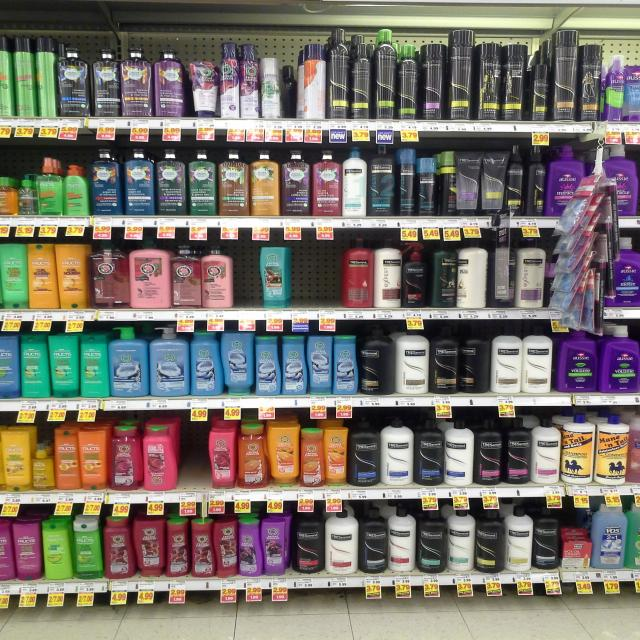empty: (278, 241, 348, 313), (171, 423, 213, 488), (231, 240, 263, 310)
